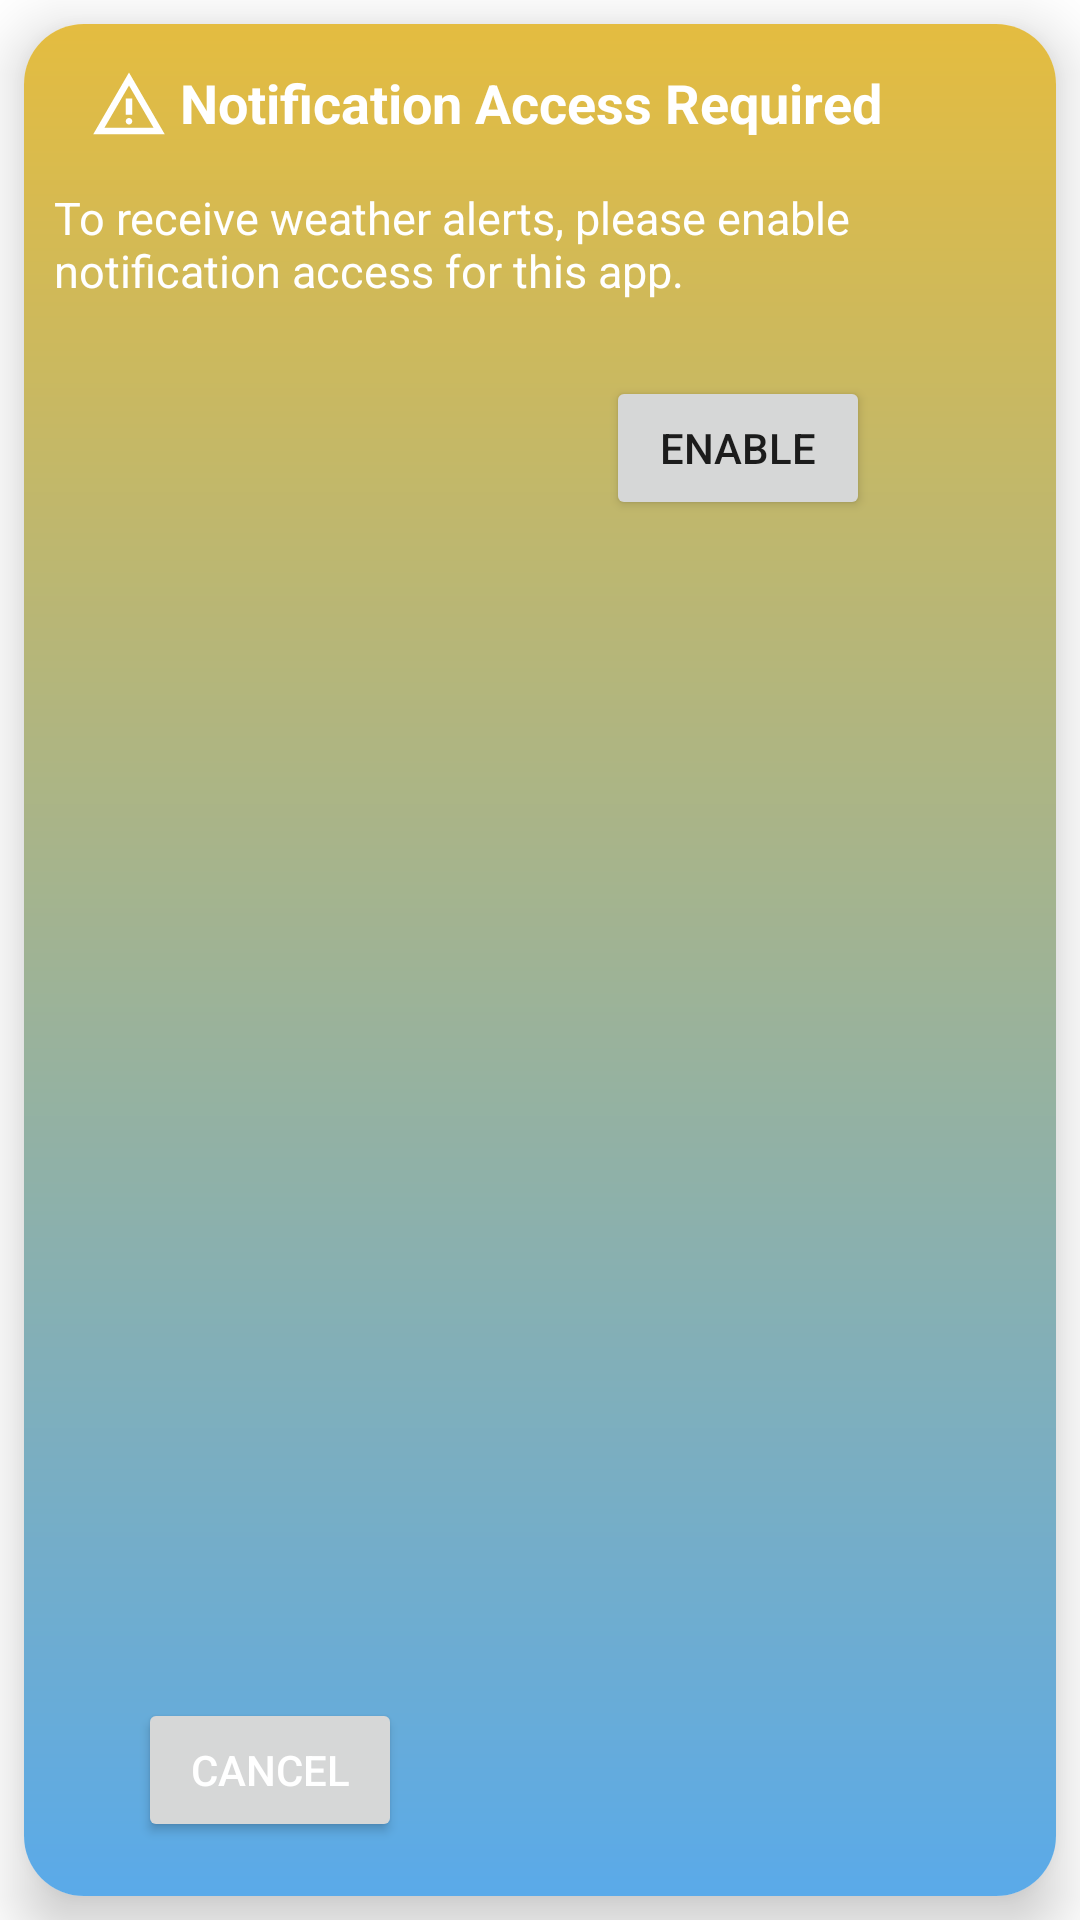

Icons on this 1080×1920 Android screen, each with its box as (x1, y1, x2, y2):
warning: (93, 73, 165, 135)
